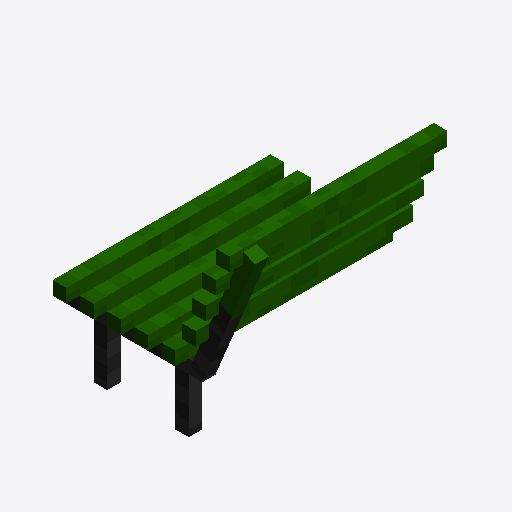
Isometric view (azimuth 45°, elevation 35.3°) of a Minecraft model made of 13 cuboids, textured from the same repository.
Visible parts, largest first — Shape2, Shape5a, Shape3e, Shape3a, Shape3b, Bracket3, Shape3c, Shape4, Shape3, Shape1, Foot3, Foot1 (+1 smaller).
Boxes of the visible parts, x1,y1,x2,y2 form: Shape2: [80, 170, 310, 318]; Shape5a: [53, 154, 283, 303]; Shape3e: [216, 123, 446, 271]; Shape3a: [182, 204, 412, 346]; Shape3b: [192, 178, 423, 320]; Bracket3: [191, 244, 268, 378]; Shape3c: [202, 154, 433, 294]; Shape4: [107, 249, 215, 334]; Shape3: [162, 233, 392, 365]; Shape1: [134, 288, 204, 350]; Foot3: [175, 367, 201, 436]; Foot1: [94, 320, 120, 389].
Bounding box in the file's own units: 16 × 14 × 13.88.